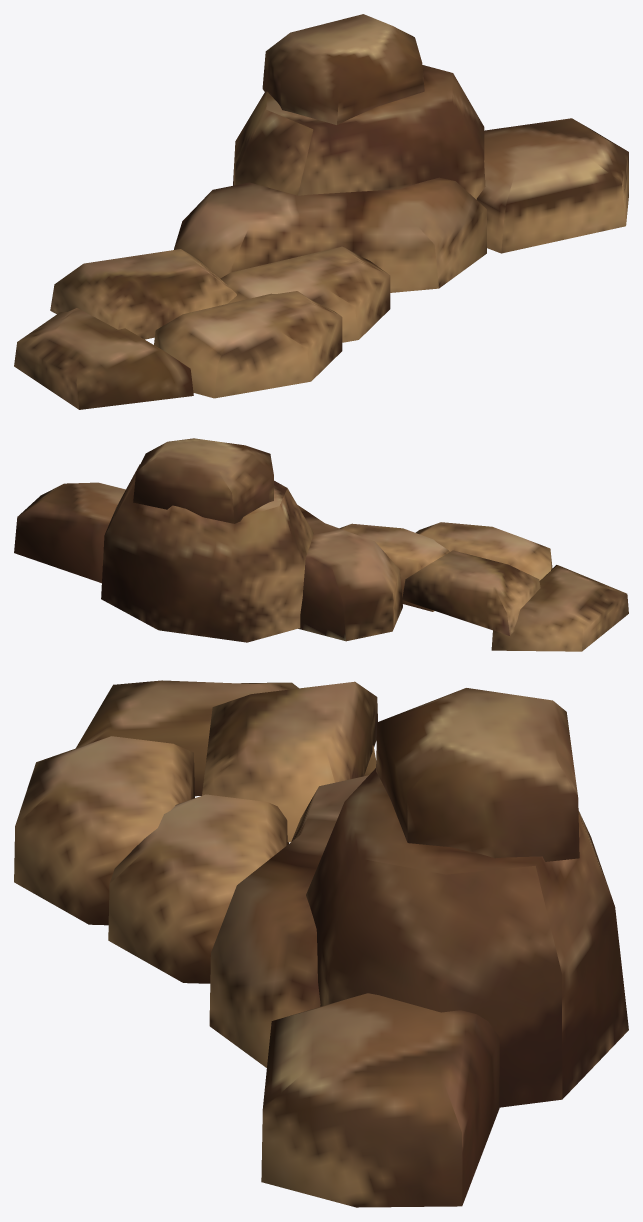
Rendered from shitou14.FBX.
3 renders of one model, top to bottom at view 1: azimuth 30°, elevation 25°; view 2: azimuth 150°, elevation 25°; view 3: azimuth 270°, elevation 25°, orthographic. The views are drawn at different scales.
Parts seen in each view (by area): view 1: shitou14; view 2: shitou14; view 3: shitou14.
Boxes of the visible parts, bbox=[...] form: shitou14: bbox=[14, 14, 628, 409]; shitou14: bbox=[14, 438, 628, 651]; shitou14: bbox=[14, 680, 628, 1207].
Size of the model in its own units: 128 by 36.69 by 68.17.
